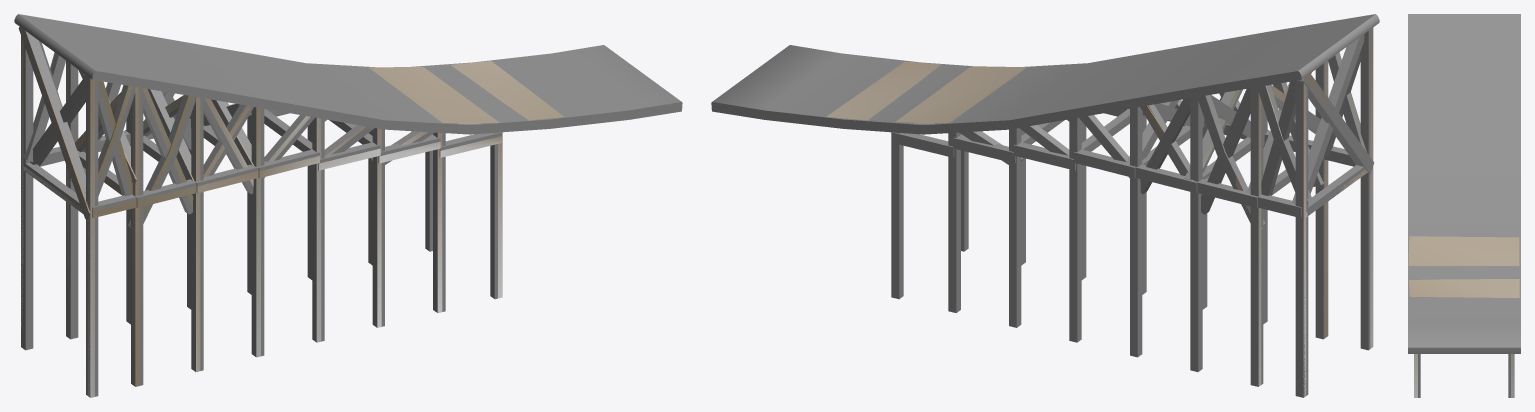
File: ut_ramp_mid_wood.DAE
The picture shows the model from 3 angles, left to right: view 1: azimuth 30°, elevation 25°; view 2: azimuth 150°, elevation 25°; view 3: azimuth 270°, elevation 25°; orthographic projection. The views are drawn at different scales.
Visible parts, largest first — view 1: colmesh-1, Ramp_mid_c1000, Ramp_mid_c130; view 2: colmesh-1, Ramp_mid_c130, Ramp_mid_c1000; view 3: colmesh-1, Ramp_mid_c130, Ramp_mid_c1000.
Boxes of the visible parts, box(x1,y1,x2,y2) form: colmesh-1: box(14, 14, 682, 396); Ramp_mid_c1000: box(21, 28, 673, 397); Ramp_mid_c130: box(369, 61, 563, 123); colmesh-1: box(711, 14, 1379, 397); Ramp_mid_c130: box(826, 61, 1026, 123); Ramp_mid_c1000: box(857, 28, 1373, 397); colmesh-1: box(1408, 14, 1520, 397); Ramp_mid_c130: box(1408, 236, 1519, 297); Ramp_mid_c1000: box(1408, 318, 1514, 397).
Size of the model in its own units: 26.19 by 5.98 by 13.98.
